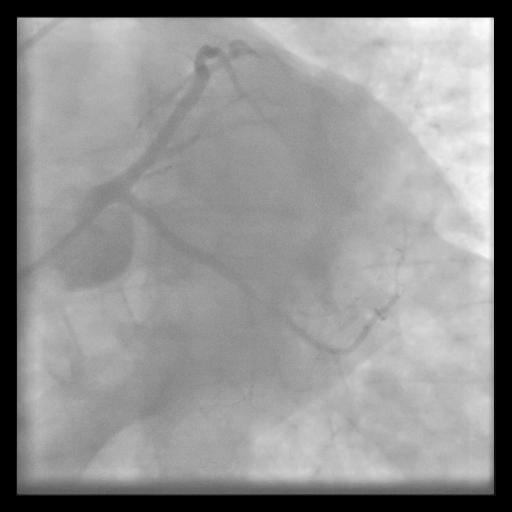Stenosis: (248, 289, 284, 319)
